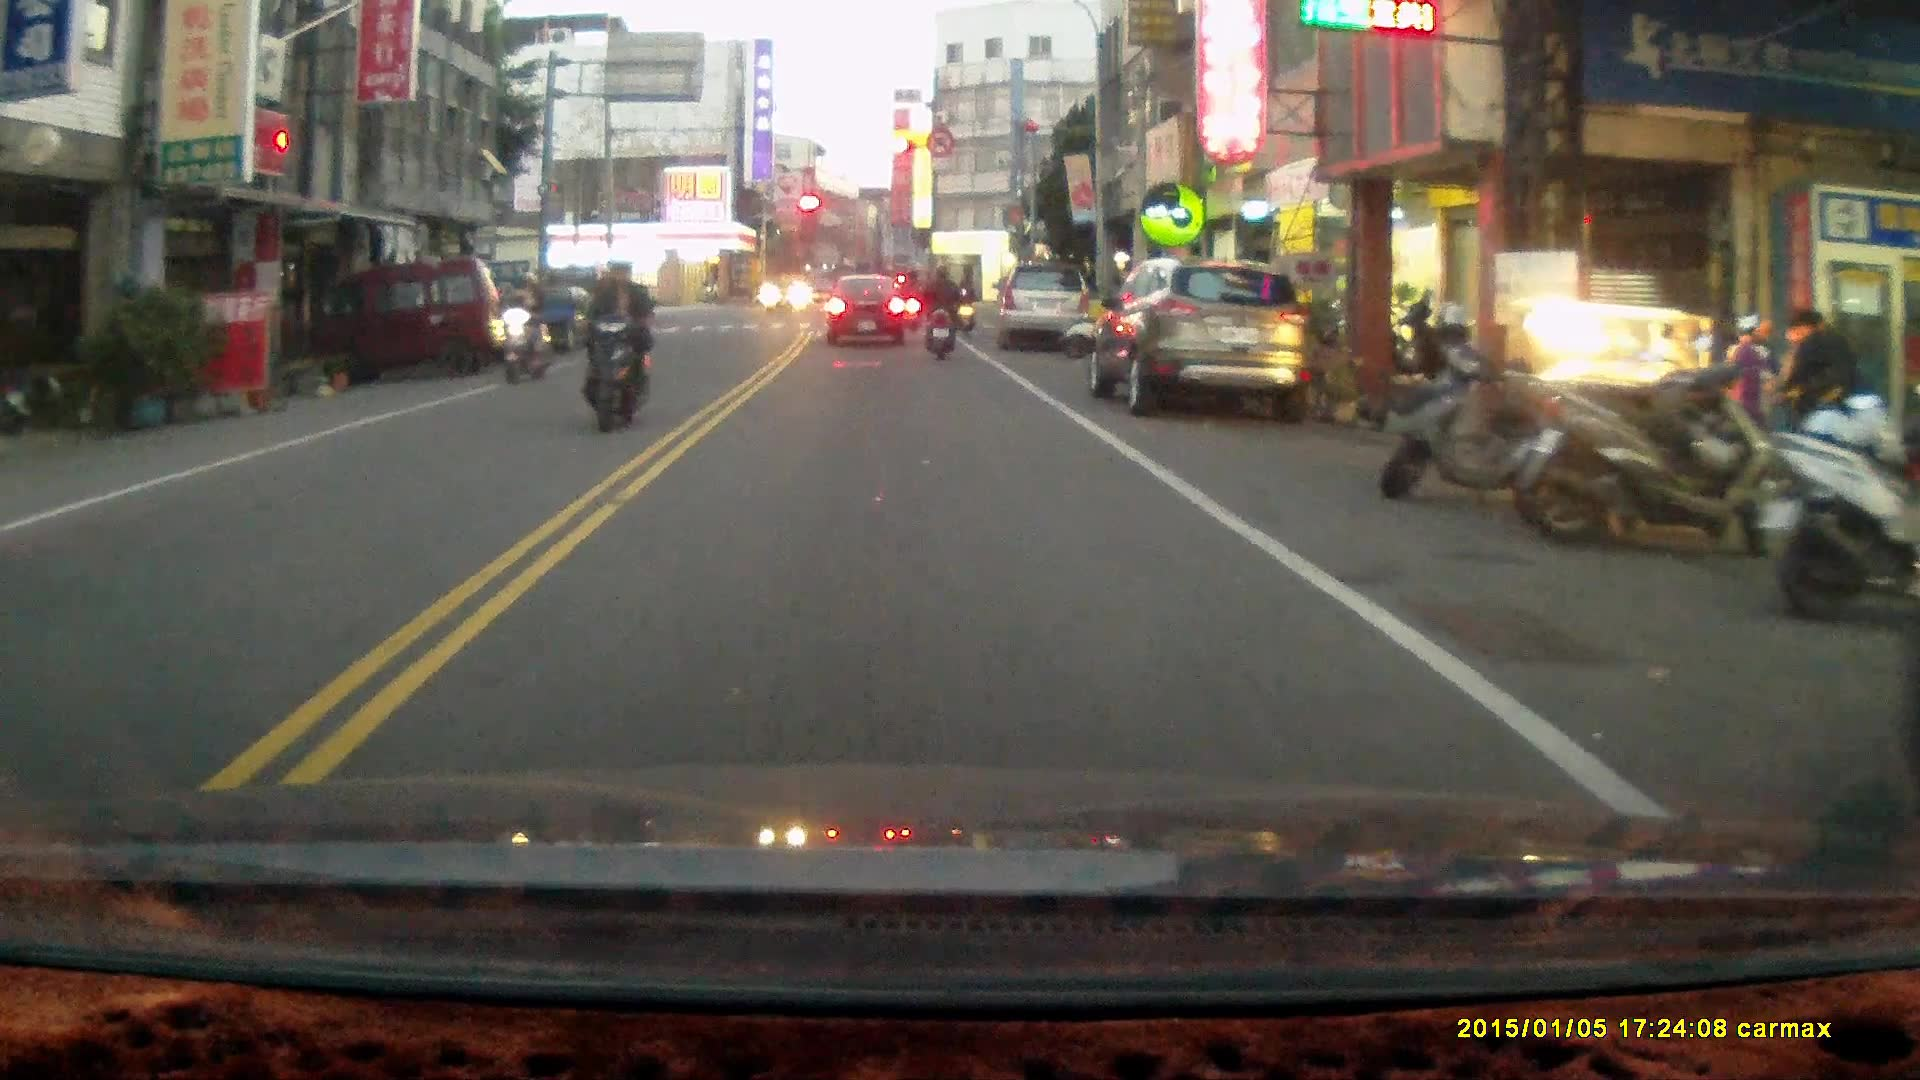pedestrian: (1782, 308, 1858, 487), (1722, 311, 1776, 469)
rider: (572, 256, 653, 432), (497, 267, 555, 385), (916, 262, 961, 360), (954, 271, 978, 336), (899, 269, 925, 329)
vehicle: (1090, 257, 1316, 423), (305, 255, 511, 389), (1001, 263, 1092, 352), (825, 276, 913, 345)
